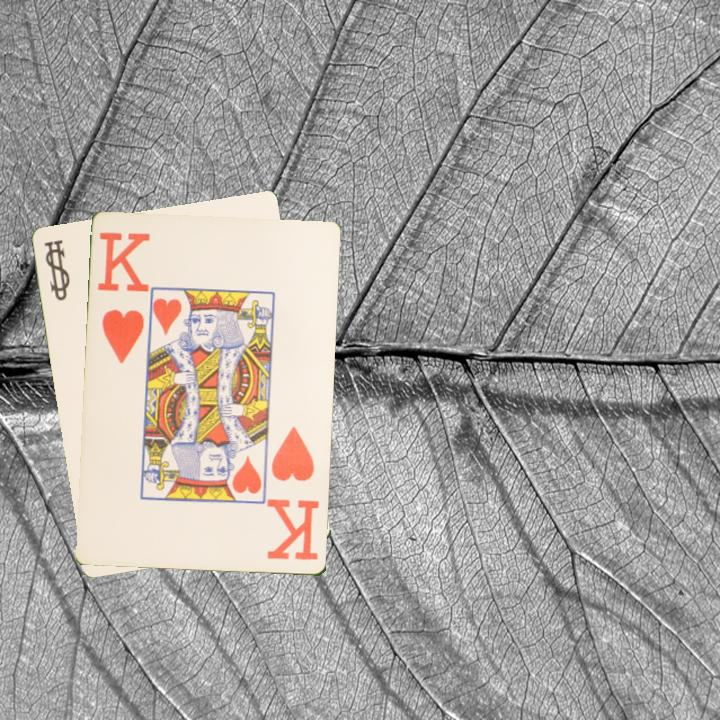JK: (41, 236, 74, 304)
Kh: (264, 424, 323, 564), (94, 229, 152, 367)
